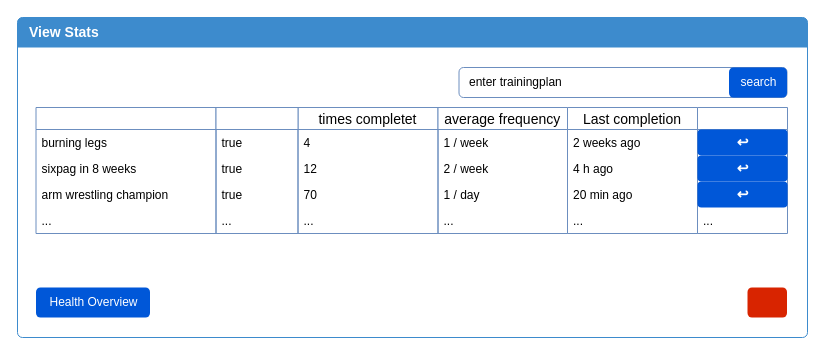
Some shapes in this 825 by 355 pixel diagram are drawn without their labels. Here are the shapes that lost their labels. From the top down, the box of each, then its label:
(35, 106, 216, 234): Training Plan Name
(215, 106, 298, 234): Is Active
(696, 106, 788, 234): Closer Look
(747, 287, 786, 317): exit
